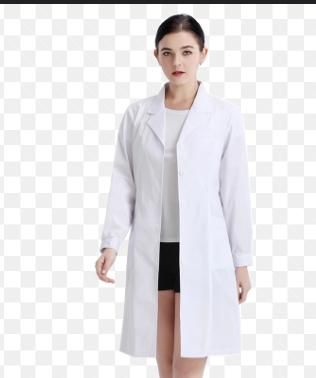lab_coat: (95, 79, 254, 360)
